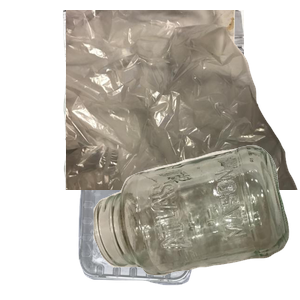glass: (91, 143, 300, 300)
paper: (60, 10, 300, 190)
plastic: (76, 162, 264, 300)
trash: (66, 10, 300, 190)
